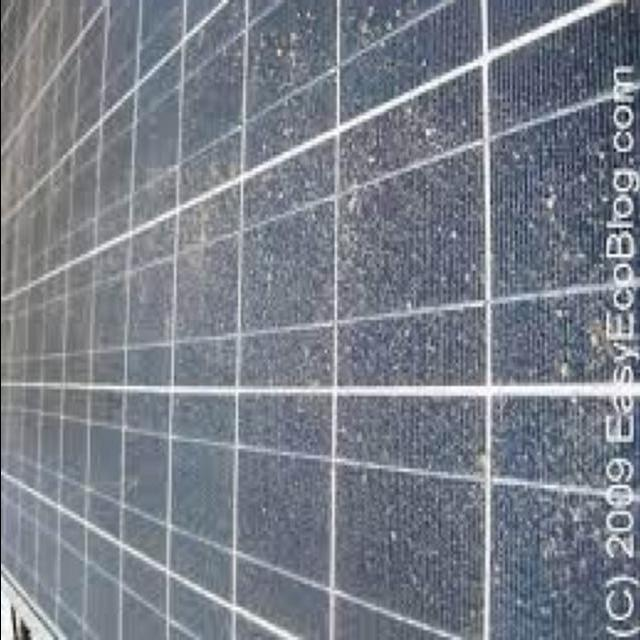soiled: (2, 0, 605, 634)
